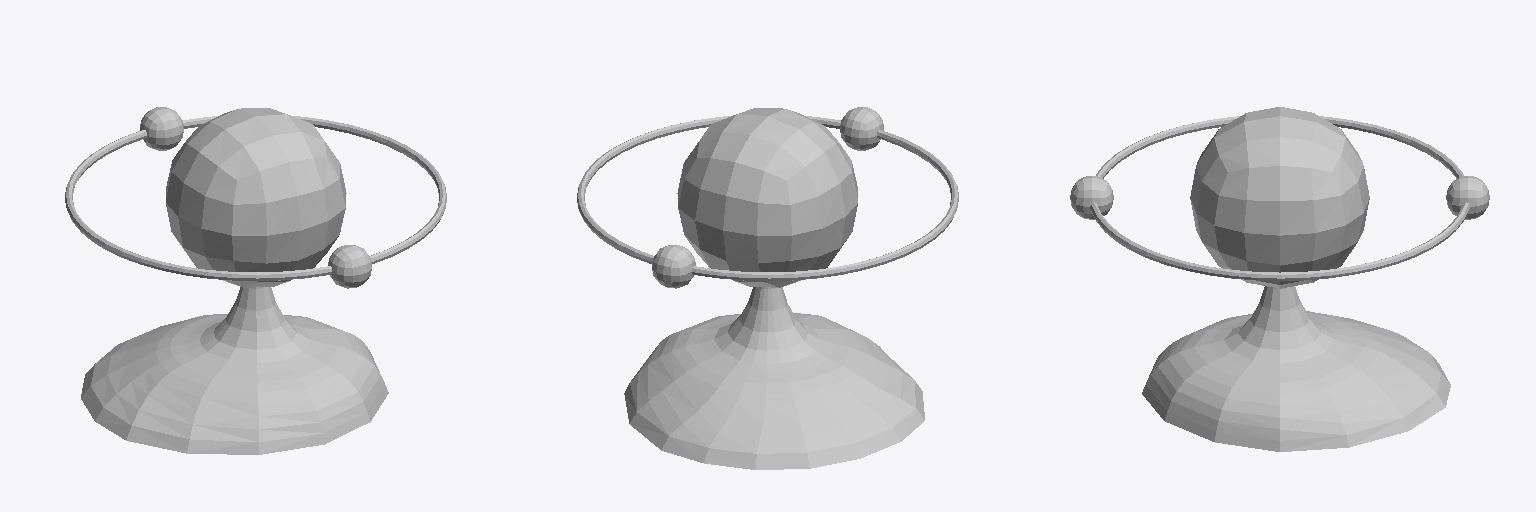
The model's file is MagnetDisplay.obj.
3 views of the same model, side by side, from view 1: azimuth 30°, elevation 25°; view 2: azimuth 150°, elevation 25°; view 3: azimuth 270°, elevation 25° (orthographic).
Visible parts, largest first — view 1: loftedSurface1, pCube2, loftedSurface2, extrudedSurface1, pCube3, pCube1; view 2: pCube2, loftedSurface2, loftedSurface1, extrudedSurface1, pCube1, pCube3; view 3: loftedSurface1, pCube2, extrudedSurface1, loftedSurface2, pCube1, pCube3.
Part boxes in pixels (left/top/right/bottom): loftedSurface1: left=126, top=287, right=388, bottom=454; pCube2: left=166, top=108, right=346, bottom=287; loftedSurface2: left=81, top=287, right=242, bottom=439; extrudedSurface1: left=65, top=116, right=446, bottom=280; pCube3: left=328, top=245, right=371, bottom=288; pCube1: left=140, top=107, right=183, bottom=150; pCube2: left=677, top=108, right=857, bottom=287; loftedSurface2: left=661, top=287, right=924, bottom=469; loftedSurface1: left=624, top=287, right=924, bottom=449; extrudedSurface1: left=577, top=116, right=958, bottom=280; pCube1: left=652, top=245, right=695, bottom=288; pCube3: left=840, top=107, right=883, bottom=150; loftedSurface1: left=1142, top=286, right=1445, bottom=451; pCube2: left=1190, top=107, right=1369, bottom=288; extrudedSurface1: left=1090, top=116, right=1469, bottom=280; loftedSurface2: left=1300, top=301, right=1450, bottom=406; pCube1: left=1446, top=176, right=1489, bottom=219; pCube3: left=1070, top=176, right=1113, bottom=219.
Bounding box in the file's own units: 16.29 × 13.12 × 17.87.